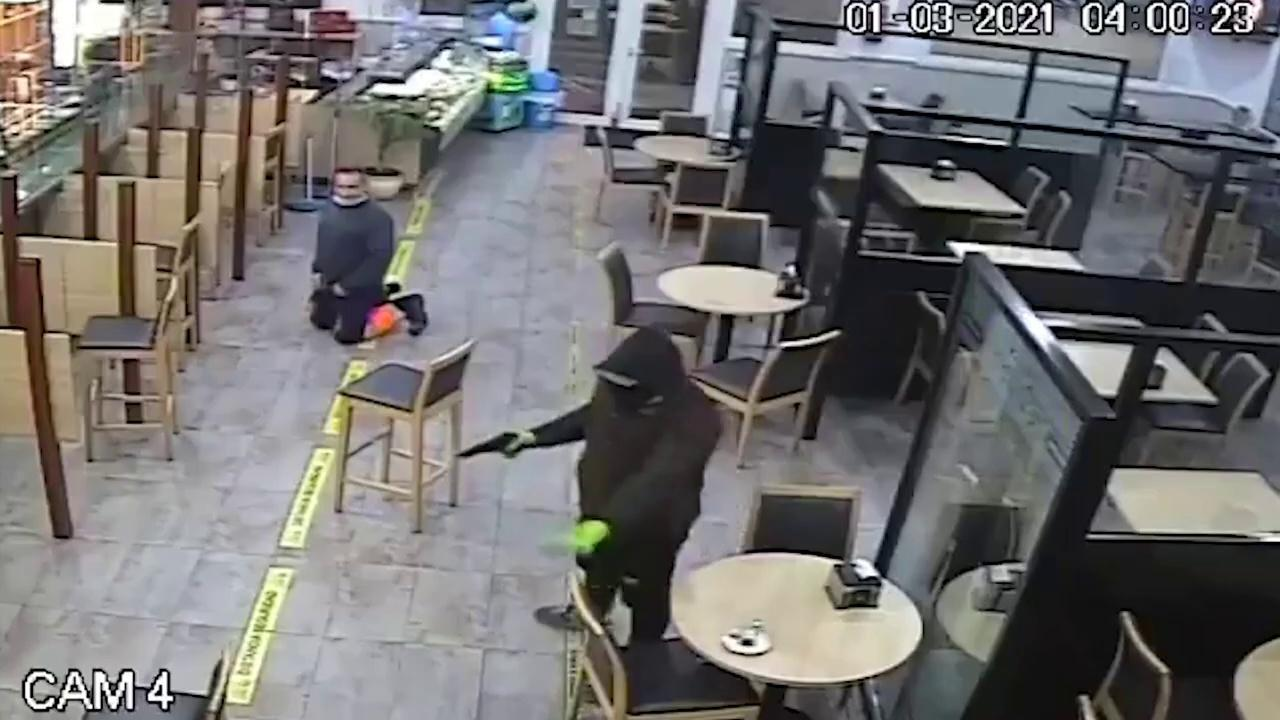Guns perspective: (435, 413, 539, 477)
